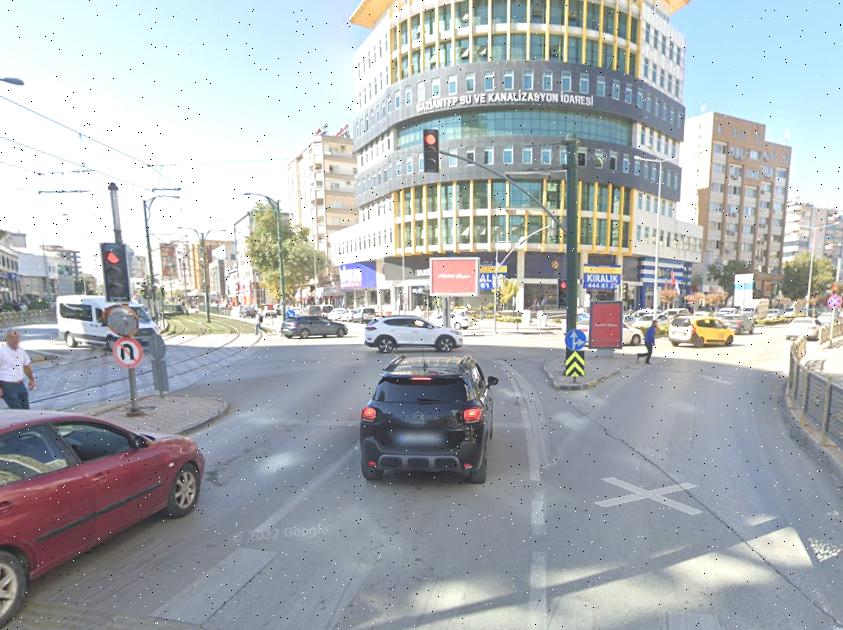redlight: (102, 240, 132, 302), (424, 131, 440, 173), (559, 277, 570, 307)
